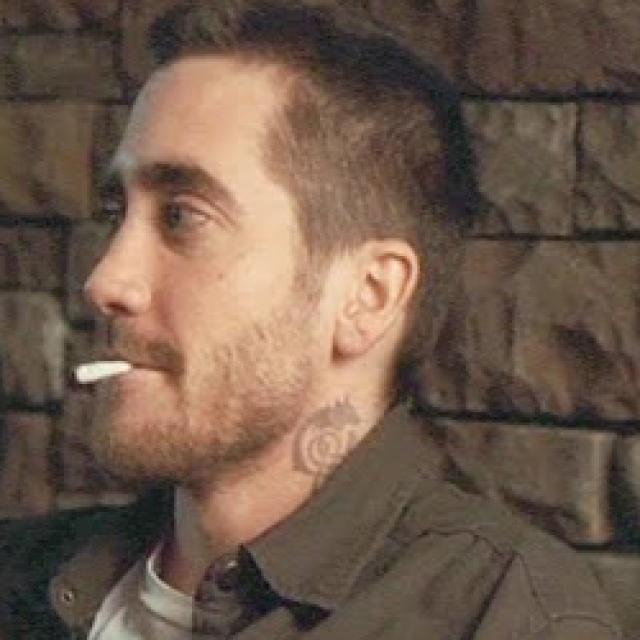Smooking: (57, 347, 142, 389)
